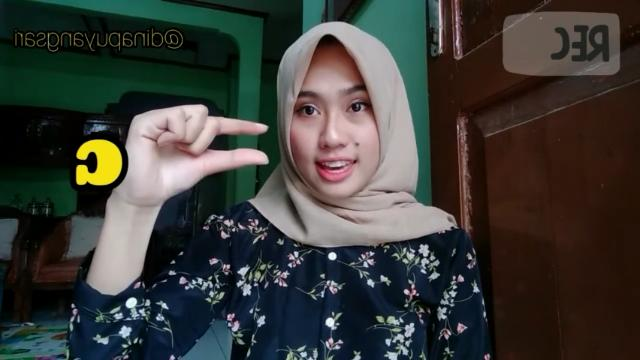G: (128, 103, 272, 214)
